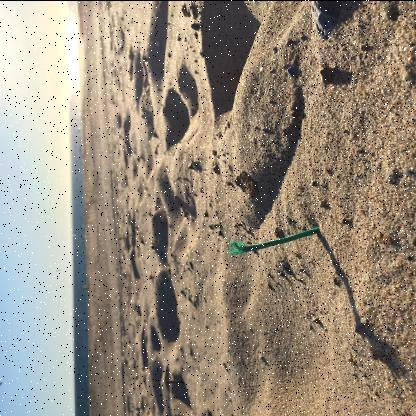other: (227, 226, 320, 256)
